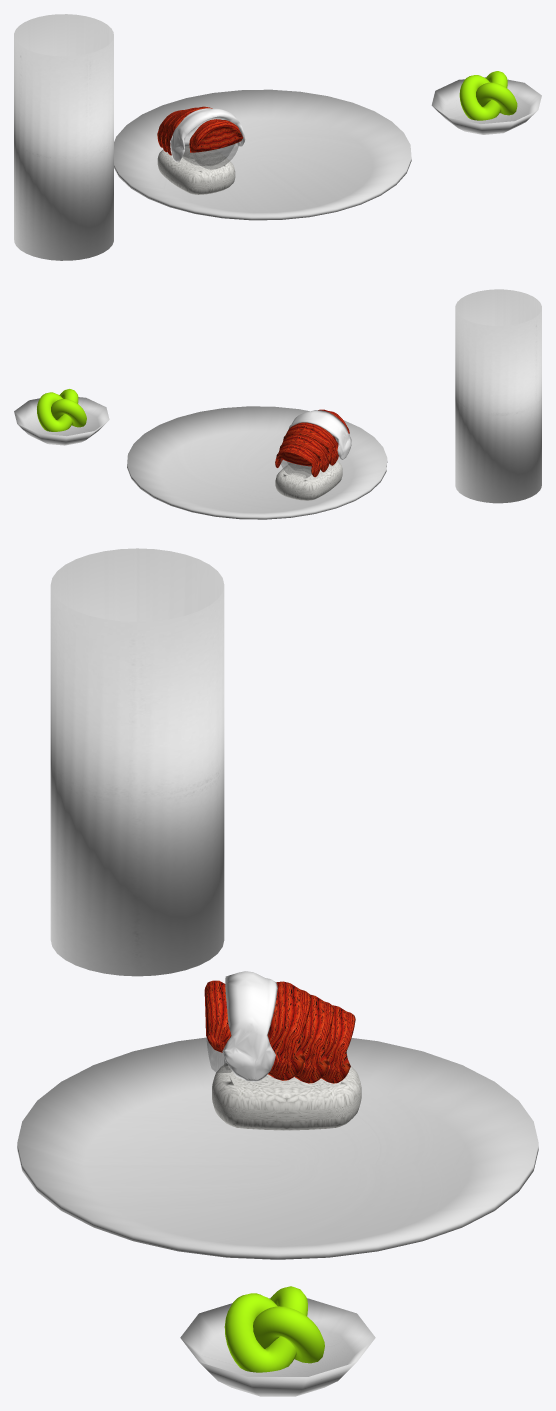
File: Crayfish_variant.obj
3 views of the same model, one above another, from view 1: azimuth 30°, elevation 25°; view 2: azimuth 150°, elevation 25°; view 3: azimuth 270°, elevation 25° (orthographic). The views are drawn at different scales.
Parts seen in each view (by area): view 1: Cylinder001, Cylinder002, saucePlate, sushiRice, iCallThisWasabi, bodyUp002, bodyUp001, bodyBottom001, bodyBottom002, bodyUp003; view 2: Cylinder001, Cylinder002, saucePlate, sushiRice, iCallThisWasabi, bodyUp002, bodyUp003, bodyUp005, bodyUp004, bodyBottom005; view 3: Cylinder001, Cylinder002, saucePlate, sushiRice, iCallThisWasabi, bodyUp002, bodyUp003, bodyUp004, bodyUp005, bodyUp001.
Part boxes in pixels (x1,y1,x2,y2): Cylinder001: [114, 89, 411, 220]; Cylinder002: [14, 14, 113, 260]; saucePlate: [431, 77, 541, 134]; sushiRice: [157, 146, 235, 194]; iCallThisWasabi: [459, 71, 517, 120]; bodyUp002: [170, 108, 245, 161]; bodyUp001: [189, 119, 243, 152]; bodyBottom001: [193, 142, 239, 169]; bodyBottom002: [182, 144, 234, 165]; bodyUp003: [164, 106, 212, 155]; Cylinder001: [127, 406, 387, 519]; Cylinder002: [455, 289, 541, 503]; saucePlate: [14, 397, 109, 445]; sushiRice: [275, 461, 342, 500]; iCallThisWasabi: [37, 389, 86, 431]; bodyUp002: [289, 410, 351, 459]; bodyUp003: [283, 422, 338, 465]; bodyUp005: [275, 444, 320, 477]; bodyUp004: [279, 434, 329, 472]; bodyBottom005: [280, 458, 311, 477]; Cylinder001: [17, 1037, 538, 1259]; Cylinder002: [50, 548, 224, 976]; saucePlate: [180, 1298, 375, 1396]; sushiRice: [212, 1063, 361, 1130]; iCallThisWasabi: [224, 1286, 324, 1372]; bodyUp002: [222, 971, 277, 1081]; bodyUp003: [267, 981, 311, 1080]; bodyUp004: [294, 994, 334, 1083]; bodyUp005: [321, 1005, 355, 1083]; bodyUp001: [204, 980, 231, 1052].
Size of the model in its own units: 510 by 205 by 240.
6 materials, 5 textured.
